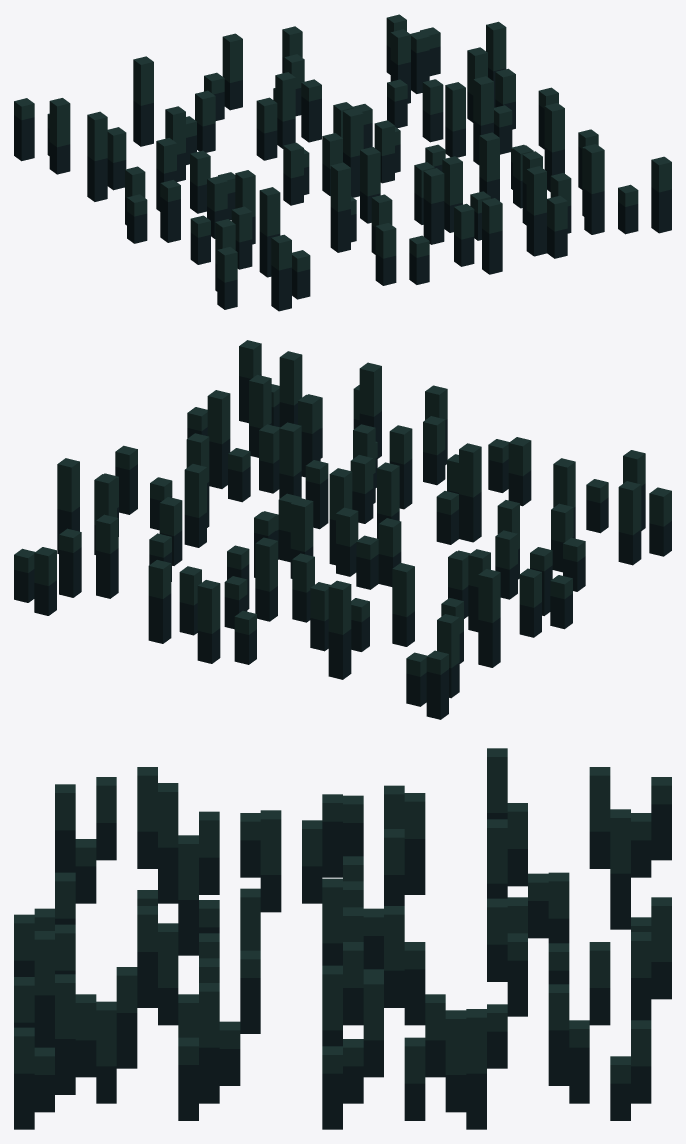
Rendered from Ground_Grass.obj.
The picture shows the model from 3 angles, top to bottom: view 1: azimuth 30°, elevation 25°; view 2: azimuth 150°, elevation 25°; view 3: azimuth 270°, elevation 25°; orthographic projection. The views are drawn at different scales.
Size of the model in its own units: 0.8 by 0.15 by 0.8.
